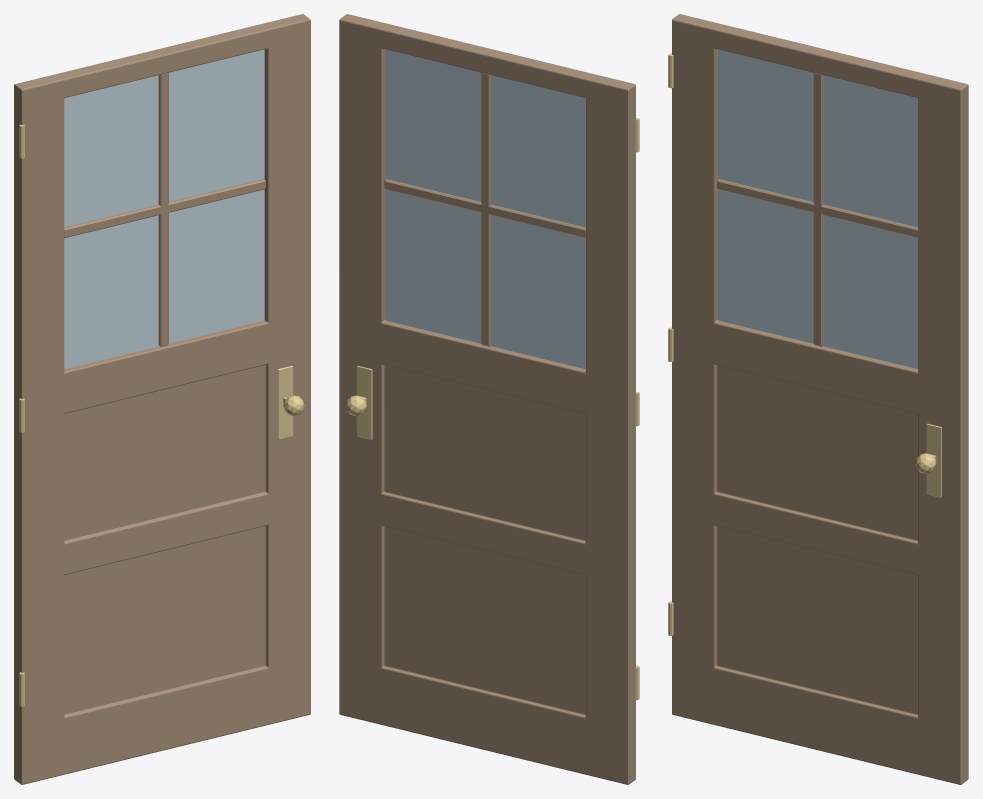
File: door_leaf_back.glb
3 renders of one model, left to right at view 1: azimuth 30°, elevation 25°; view 2: azimuth 150°, elevation 25°; view 3: azimuth 330°, elevation 25°, orthographic.
Visible parts, largest first — view 1: door_leaf_back_door, door_leaf_back_glass, door_leaf_back_brass; view 2: door_leaf_back_door, door_leaf_back_glass, door_leaf_back_brass; view 3: door_leaf_back_door, door_leaf_back_glass, door_leaf_back_brass.
Part boxes in pixels (x1=…): door_leaf_back_door: x1=14, y1=14, x2=310, y2=784; door_leaf_back_glass: x1=64, y1=49, x2=264, y2=369; door_leaf_back_brass: x1=19, y1=124, x2=304, y2=706; door_leaf_back_door: x1=339, y1=14, x2=635, y2=784; door_leaf_back_glass: x1=385, y1=49, x2=585, y2=369; door_leaf_back_brass: x1=345, y1=118, x2=639, y2=700; door_leaf_back_door: x1=672, y1=14, x2=968, y2=784; door_leaf_back_glass: x1=718, y1=49, x2=918, y2=368; door_leaf_back_brass: x1=668, y1=53, x2=941, y2=635.
Bounding box in the file's own units: 0.948 × 2.16 × 0.205.
